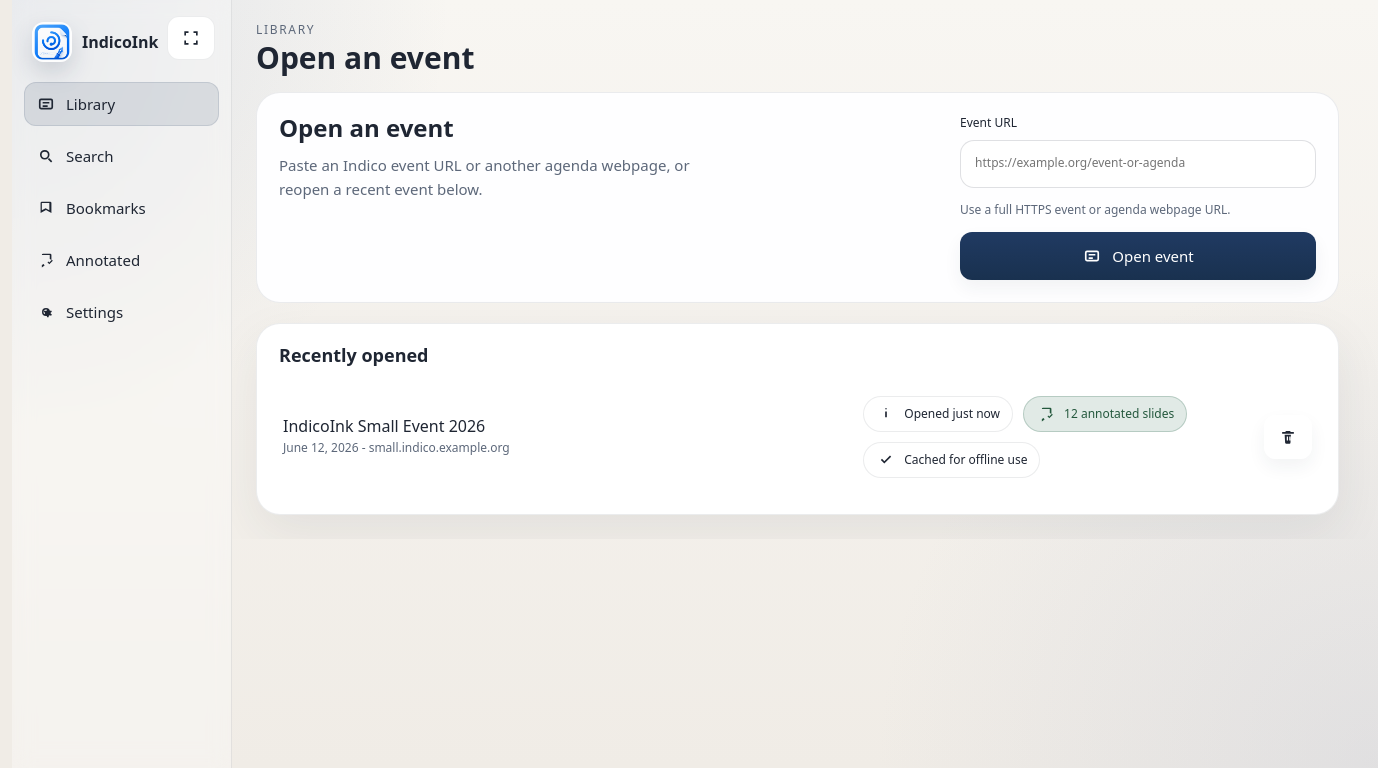
App › shows shortcut hints and routes Ctrl+F and Alt+L
Click the button with aria-label "Open IndicoInk Small Event 2026" at (384, 426), box [279,382,1316,492]
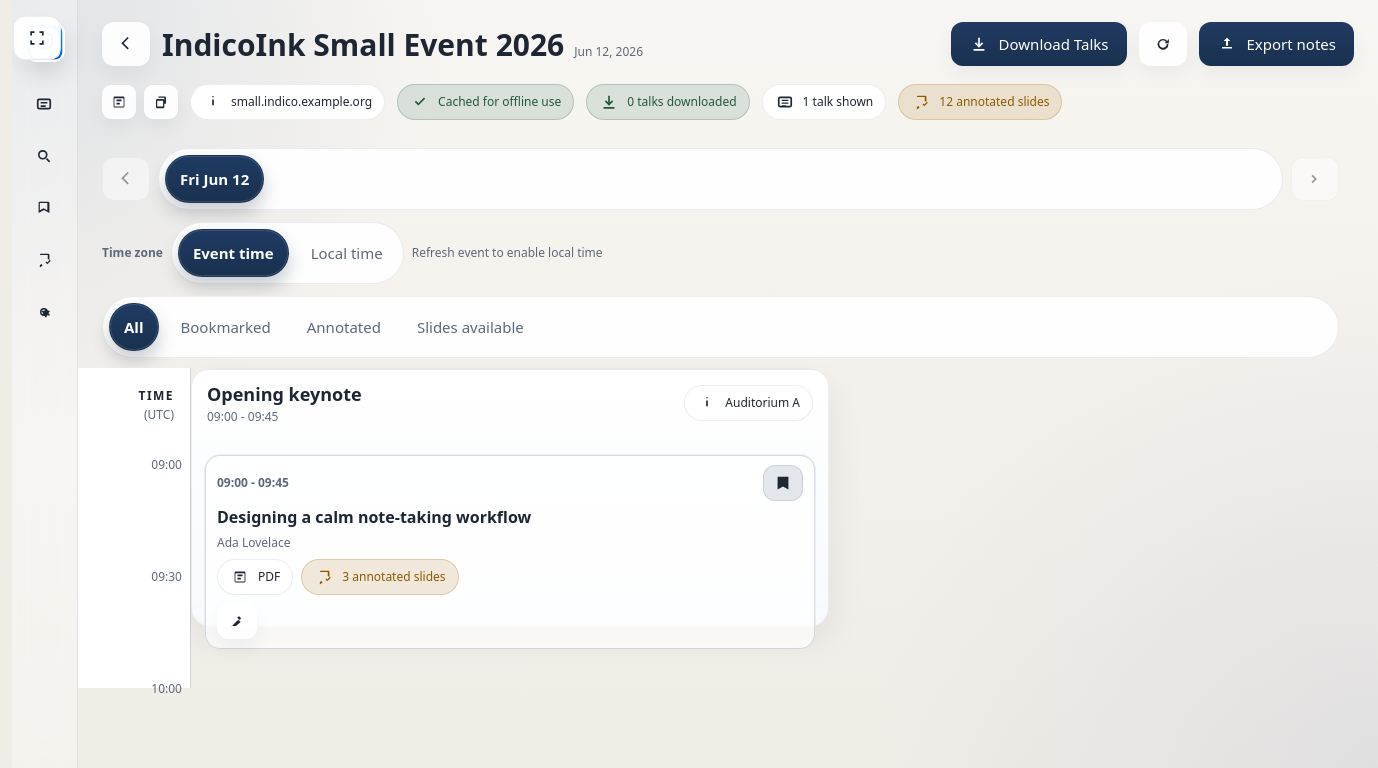
Check: the heading "IndicoInk Small Event 2026" is shown, box [162,28,564,60]
Press f
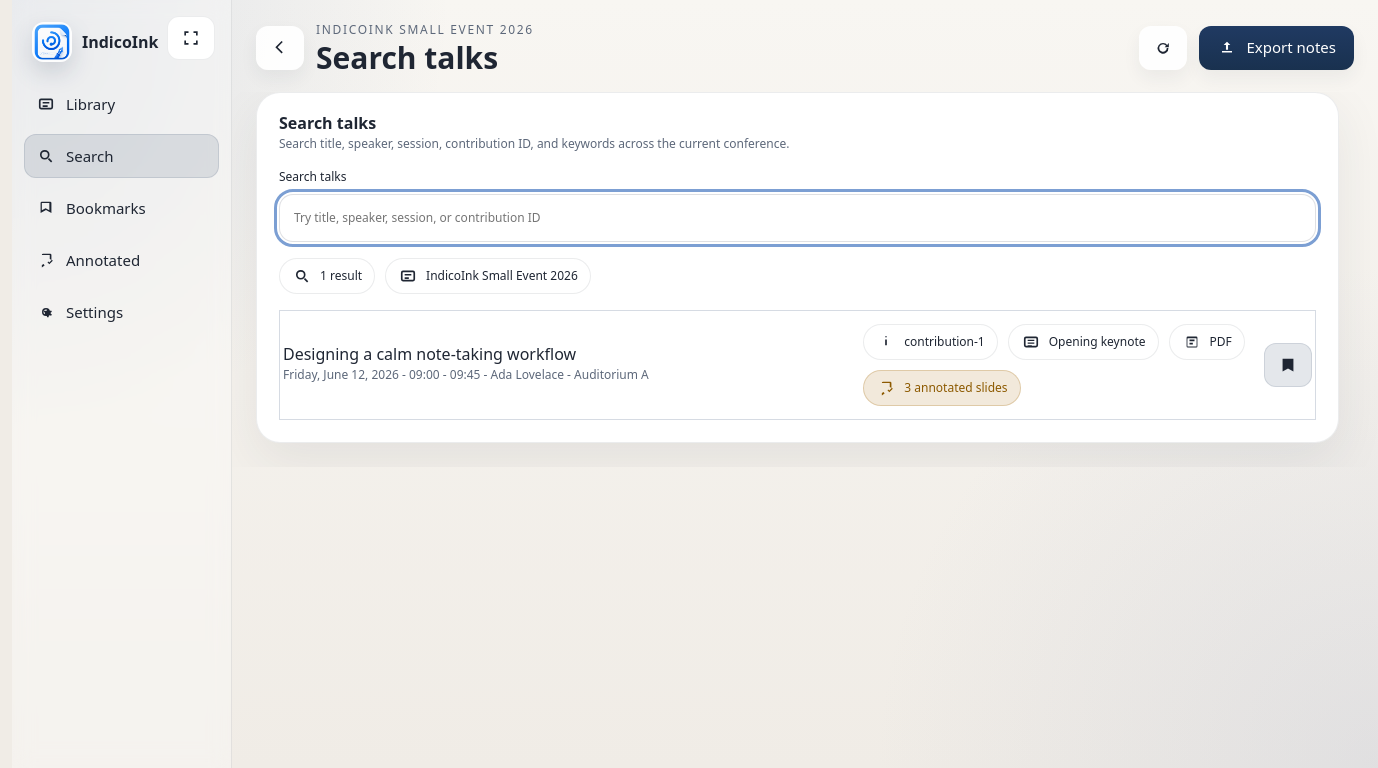
Check: the 2nd heading "Search talks" is shown, box [279,112,376,134]
Press l
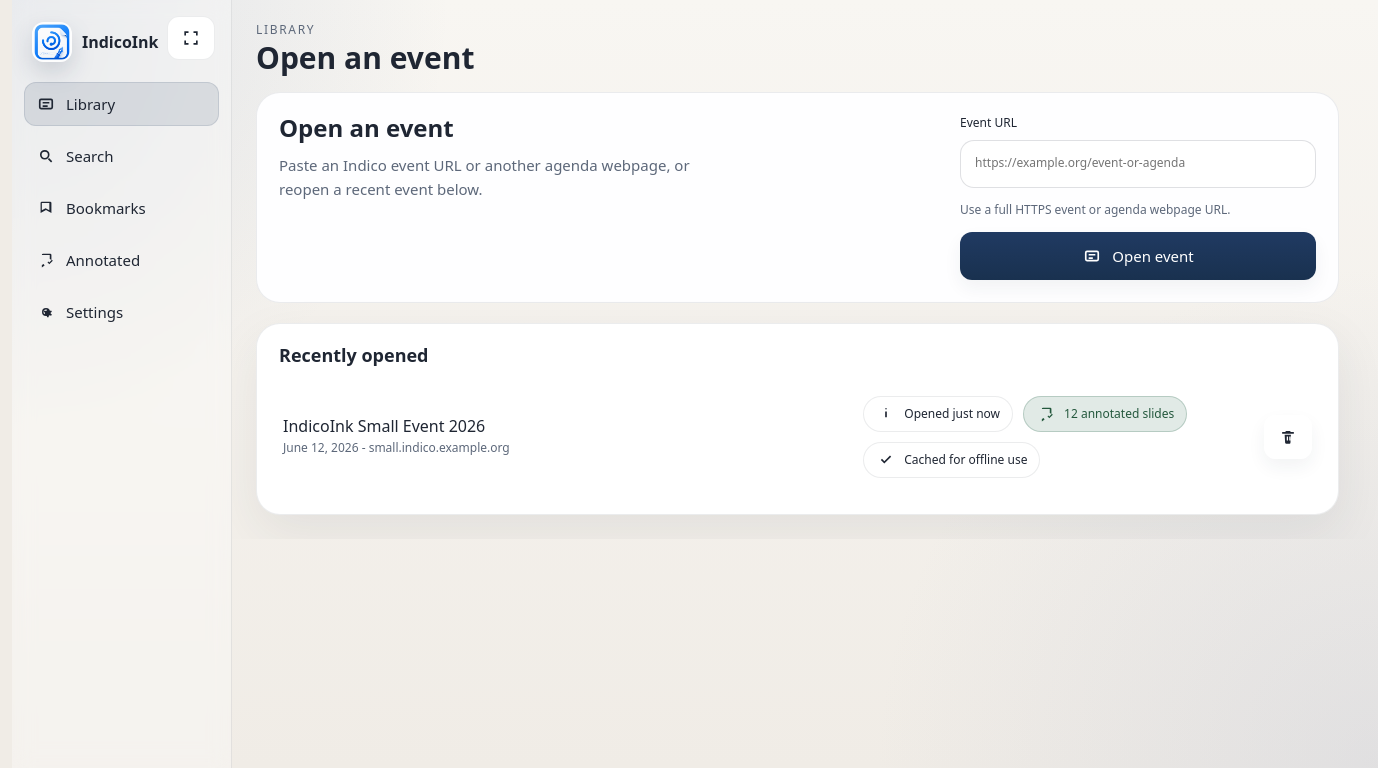
Check: the 1st heading "Open an event" is shown, box [256,41,474,74]
